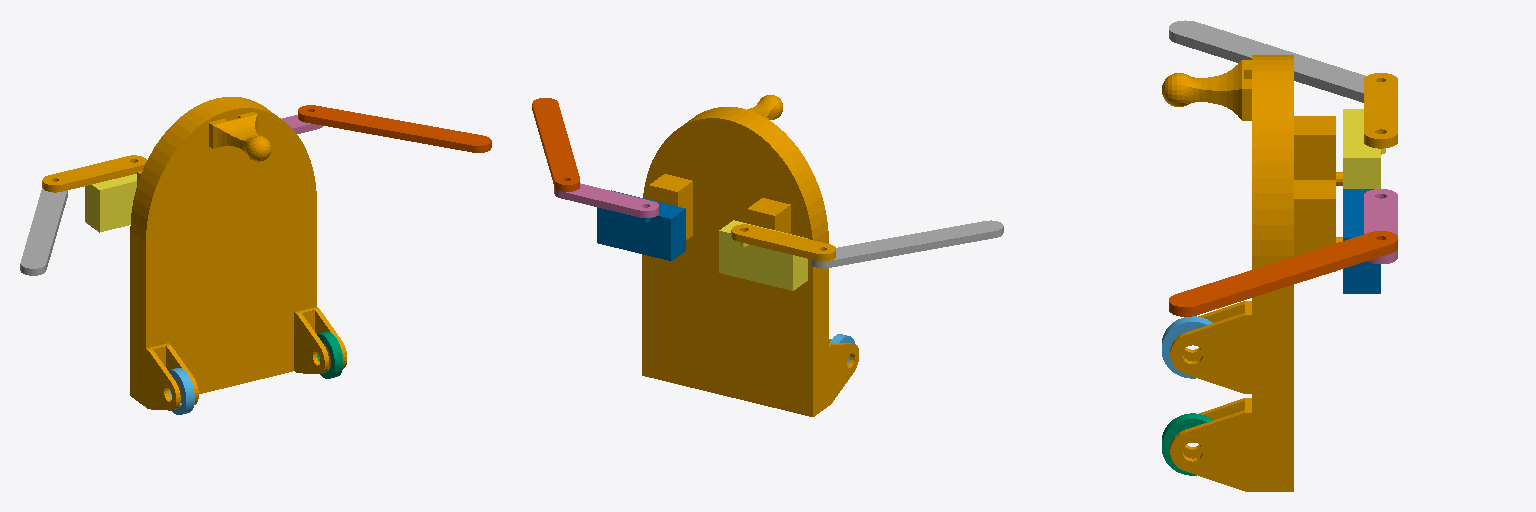
The robot description file, URDF, robot "Base_model":
<?xml version="1.0" ?>
<robot name="Base_model">

<material name="silver">
  <color rgba="0.700 0.700 0.700 1.000"/>
</material>

<material name="yellow">
  <color rgba="0.700 0.700 0.200 1.000"/>
</material>

<material name="blue">
  <color rgba="0.100 0.000 0.600 1.000"/>
</material>

<link name="base_link">
  <inertial>
    <origin rpy="0 0 0" xyz="2.1649117348326915e-10 0.006063366160416191 -0.0036090404473681564"/>
    <mass value="0.8667461259505118"/>
    <inertia ixx="0.0009292065490933371" ixy="4.096239872895422e-12" ixz="-9.714954767796221e-12" iyy="0.0012966665024559648" iyz="-1.87163985415264e-05" izz="0.00042571411403887746"/>
  </inertial>
  <visual>
    <origin rpy="0 0 0" xyz="0 0 0"/>
    <geometry>
      <mesh filename="meshes/base_link.stl" scale="0.001 0.001 0.001"/>
    </geometry>
    <material name="yellow"/>
    <material/>
  </visual>
  <collision>
    <origin rpy="0 0 0" xyz="0 0 0"/>
    <geometry>
      <mesh filename="meshes/base_link.stl" scale="0.001 0.001 0.001"/>
    </geometry>
  </collision>
</link>

<link name="wheel1">
  <inertial>
    <origin rpy="0 0 0" xyz="0.004899999999999953 -3.469446951953614e-18 5.215758380749946e-13"/>
    <mass value="0.004160654388960019"/>
    <inertia ixx="2.44651682942537e-07" ixy="1.2705494208814505e-21" ixz="5.929230630780102e-21" iyy="1.2733249153231007e-07" iyz="-1.2705494208814505e-21" izz="1.273324996396622e-07"/>
  </inertial>
  <visual>
    <origin rpy="0 0 0" xyz="0.038 0.017 0.04625"/>
    <geometry>
      <mesh filename="meshes/wheel1.stl" scale="0.001 0.001 0.001"/>
    </geometry>
    <material name="silver"/>
    <material/>
  </visual>
  <collision>
    <origin rpy="0 0 0" xyz="0.038 0.017 0.04625"/>
    <geometry>
      <mesh filename="meshes/wheel1.stl" scale="0.001 0.001 0.001"/>
    </geometry>
  </collision>
</link>

<link name="wheel_11">
  <inertial>
    <origin rpy="0 0 0" xyz="0.004899999999999963 -3.469446951953614e-18 5.215758380749946e-13"/>
    <mass value="0.004160654388960019"/>
    <inertia ixx="2.44651682942537e-07" ixy="4.235164736271502e-22" ixz="8.470329472543003e-22" iyy="1.2733249153231177e-07" iyz="-1.2705494208814505e-21" izz="1.2733249963966052e-07"/>
  </inertial>
  <visual>
    <origin rpy="0 0 0" xyz="-0.028 0.017 0.04625"/>
    <geometry>
      <mesh filename="meshes/wheel_11.stl" scale="0.001 0.001 0.001"/>
    </geometry>
    <material name="silver"/>
    <material/>
  </visual>
  <collision>
    <origin rpy="0 0 0" xyz="-0.028 0.017 0.04625"/>
    <geometry>
      <mesh filename="meshes/wheel_11.stl" scale="0.001 0.001 0.001"/>
    </geometry>
  </collision>
</link>

<link name="updownservo_r1">
  <inertial>
    <origin rpy="0 0 0" xyz="-0.005250157769523277 0.005521234487045907 0.003019495805420642"/>
    <mass value="0.05129035865610433"/>
    <inertia ixx="1.90744640783288e-06" ixy="-5.718075226976275e-09" ixz="-5.249878735722076e-09" iyy="6.0437319526034095e-06" iyz="-2.8193109730809325e-09" izz="5.173021286811424e-06"/>
  </inertial>
  <visual>
    <origin rpy="0 0 0" xyz="0.02185 -0.026 -0.0123"/>
    <geometry>
      <mesh filename="meshes/updownservo_r1.stl" scale="0.001 0.001 0.001"/>
    </geometry>
    <material name="blue"/>
    <material/>
  </visual>
  <collision>
    <origin rpy="0 0 0" xyz="0.02185 -0.026 -0.0123"/>
    <geometry>
      <mesh filename="meshes/updownservo_r1.stl" scale="0.001 0.001 0.001"/>
    </geometry>
  </collision>
</link>

<link name="updownservo_l1">
  <inertial>
    <origin rpy="0 0 0" xyz="0.0052501577695231935 0.0055212344870459 0.003019495805420642"/>
    <mass value="0.05129035865610433"/>
    <inertia ixx="1.9074464078328935e-06" ixy="5.7180752269627225e-09" ixz="5.249878735742405e-09" iyy="6.043731952603416e-06" iyz="-2.8193109730809325e-09" izz="5.1730212868114785e-06"/>
  </inertial>
  <visual>
    <origin rpy="0 0 0" xyz="-0.02185 -0.026 -0.0123"/>
    <geometry>
      <mesh filename="meshes/updownservo_l1.stl" scale="0.001 0.001 0.001"/>
    </geometry>
    <material name="blue"/>
    <material/>
  </visual>
  <collision>
    <origin rpy="0 0 0" xyz="-0.02185 -0.026 -0.0123"/>
    <geometry>
      <mesh filename="meshes/updownservo_l1.stl" scale="0.001 0.001 0.001"/>
    </geometry>
  </collision>
</link>

<link name="arm1">
  <inertial>
    <origin rpy="0 0 0" xyz="0.021232718453066568 -0.02822627433821328 0.0015000000000000013"/>
    <mass value="0.01816814753405157"/>
    <inertia ixx="5.864620872344388e-06" ixy="4.289344550046274e-06" ixz="-6.776263578034403e-21" iyy="3.389051553930088e-06" iyz="-2.541098841762901e-21" izz="9.226420204973095e-06"/>
  </inertial>
  <visual>
    <origin rpy="0 0 0" xyz="-0.05685 -0.037 -0.0273"/>
    <geometry>
      <mesh filename="meshes/arm1.stl" scale="0.001 0.001 0.001"/>
    </geometry>
    <material name="silver"/>
    <material/>
  </visual>
  <collision>
    <origin rpy="0 0 0" xyz="-0.05685 -0.037 -0.0273"/>
    <geometry>
      <mesh filename="meshes/arm1.stl" scale="0.001 0.001 0.001"/>
    </geometry>
  </collision>
</link>

<link name="forearm_11">
  <inertial>
    <origin rpy="0 0 0" xyz="0.017585321332977473 6.938893903907228e-18 0.0015000000000000048"/>
    <mass value="0.009711832308861891"/>
    <inertia ixx="8.728333535491803e-08" ixy="1.5246593050577406e-20" ixz="-1.6940658945086007e-21" iyy="1.4473050303649479e-06" iyz="0.0" izz="1.520020617257124e-06"/>
  </inertial>
  <visual>
    <origin rpy="0 0 0" xyz="-0.02185 -0.037 -0.0243"/>
    <geometry>
      <mesh filename="meshes/forearm_11.stl" scale="0.001 0.001 0.001"/>
    </geometry>
    <material name="silver"/>
    <material/>
  </visual>
  <collision>
    <origin rpy="0 0 0" xyz="-0.02185 -0.037 -0.0243"/>
    <geometry>
      <mesh filename="meshes/forearm_11.stl" scale="0.001 0.001 0.001"/>
    </geometry>
  </collision>
</link>

<link name="arm_11">
  <inertial>
    <origin rpy="0 0 0" xyz="-0.021232718453066443 -0.028226274338213453 -0.001499999999999991"/>
    <mass value="0.01816814753405157"/>
    <inertia ixx="5.86462087234438e-06" ixy="-4.289344550046262e-06" ixz="0.0" iyy="3.389051553930156e-06" iyz="4.235164736271502e-22" izz="9.226420204973325e-06"/>
  </inertial>
  <visual>
    <origin rpy="0 0 0" xyz="0.05685 -0.037 -0.0243"/>
    <geometry>
      <mesh filename="meshes/arm_11.stl" scale="0.001 0.001 0.001"/>
    </geometry>
    <material name="silver"/>
    <material/>
  </visual>
  <collision>
    <origin rpy="0 0 0" xyz="0.05685 -0.037 -0.0243"/>
    <geometry>
      <mesh filename="meshes/arm_11.stl" scale="0.001 0.001 0.001"/>
    </geometry>
  </collision>
</link>

<link name="forearm1">
  <inertial>
    <origin rpy="0 0 0" xyz="-0.017585321332977605 1.3877787807814457e-17 0.0015000000000000048"/>
    <mass value="0.009711832308861891"/>
    <inertia ixx="8.72833353549248e-08" ixy="-8.470329472543003e-21" ixz="1.6940658945086007e-21" iyy="1.4473050303649716e-06" iyz="0.0" izz="1.5200206172566057e-06"/>
  </inertial>
  <visual>
    <origin rpy="0 0 0" xyz="0.02185 -0.037 -0.0243"/>
    <geometry>
      <mesh filename="meshes/forearm1.stl" scale="0.001 0.001 0.001"/>
    </geometry>
    <material name="silver"/>
    <material/>
  </visual>
  <collision>
    <origin rpy="0 0 0" xyz="0.02185 -0.037 -0.0243"/>
    <geometry>
      <mesh filename="meshes/forearm1.stl" scale="0.001 0.001 0.001"/>
    </geometry>
  </collision>
</link>

<joint name="Rev1" type="continuous">
  <origin rpy="0 0 0" xyz="-0.038 -0.017 -0.04625"/>
  <parent link="base_link"/>
  <child link="wheel1"/>
  <axis xyz="-1.0 0.0 0.0"/>
</joint>
<transmission name="Rev1_tran">
  <type>transmission_interface/SimpleTransmission</type>
  <joint name="Rev1">
    <hardwareInterface>PositionJointInterface</hardwareInterface>
  </joint>
  <actuator name="Rev1_actr">
    <hardwareInterface>PositionJointInterface</hardwareInterface>
    <mechanicalReduction>1</mechanicalReduction>
  </actuator>
</transmission>

<joint name="Rev2" type="continuous">
  <origin rpy="0 0 0" xyz="0.028 -0.017 -0.04625"/>
  <parent link="base_link"/>
  <child link="wheel_11"/>
  <axis xyz="-1.0 0.0 0.0"/>
</joint>
<transmission name="Rev2_tran">
  <type>transmission_interface/SimpleTransmission</type>
  <joint name="Rev2">
    <hardwareInterface>PositionJointInterface</hardwareInterface>
  </joint>
  <actuator name="Rev2_actr">
    <hardwareInterface>PositionJointInterface</hardwareInterface>
    <mechanicalReduction>1</mechanicalReduction>
  </actuator>
</transmission>

<joint name="Rev3" type="continuous">
  <origin rpy="0 0 0" xyz="-0.02185 0.026 0.0123"/>
  <parent link="base_link"/>
  <child link="updownservo_r1"/>
  <axis xyz="0.0 1.0 0.0"/>
</joint>
<transmission name="Rev3_tran">
  <type>transmission_interface/SimpleTransmission</type>
  <joint name="Rev3">
    <hardwareInterface>PositionJointInterface</hardwareInterface>
  </joint>
  <actuator name="Rev3_actr">
    <hardwareInterface>PositionJointInterface</hardwareInterface>
    <mechanicalReduction>1</mechanicalReduction>
  </actuator>
</transmission>

<joint name="Rev4" type="continuous">
  <origin rpy="0 0 0" xyz="0.02185 0.026 0.0123"/>
  <parent link="base_link"/>
  <child link="updownservo_l1"/>
  <axis xyz="0.0 1.0 0.0"/>
</joint>
<transmission name="Rev4_tran">
  <type>transmission_interface/SimpleTransmission</type>
  <joint name="Rev4">
    <hardwareInterface>PositionJointInterface</hardwareInterface>
  </joint>
  <actuator name="Rev4_actr">
    <hardwareInterface>PositionJointInterface</hardwareInterface>
    <mechanicalReduction>1</mechanicalReduction>
  </actuator>
</transmission>

<joint name="Rev5" type="continuous">
  <origin rpy="0 0 0" xyz="0.035 0.0 0.003"/>
  <parent link="forearm_11"/>
  <child link="arm1"/>
  <axis xyz="0.0 0.0 1.0"/>
</joint>
<transmission name="Rev5_tran">
  <type>transmission_interface/SimpleTransmission</type>
  <joint name="Rev5">
    <hardwareInterface>PositionJointInterface</hardwareInterface>
  </joint>
  <actuator name="Rev5_actr">
    <hardwareInterface>PositionJointInterface</hardwareInterface>
    <mechanicalReduction>1</mechanicalReduction>
  </actuator>
</transmission>

<joint name="Rev6" type="continuous">
  <origin rpy="0 0 0" xyz="0.0 0.011 0.012"/>
  <parent link="updownservo_l1"/>
  <child link="forearm_11"/>
  <axis xyz="0.0 0.0 1.0"/>
</joint>
<transmission name="Rev6_tran">
  <type>transmission_interface/SimpleTransmission</type>
  <joint name="Rev6">
    <hardwareInterface>PositionJointInterface</hardwareInterface>
  </joint>
  <actuator name="Rev6_actr">
    <hardwareInterface>PositionJointInterface</hardwareInterface>
    <mechanicalReduction>1</mechanicalReduction>
  </actuator>
</transmission>

<joint name="Rev7" type="continuous">
  <origin rpy="0 0 0" xyz="-0.035 0.0 0.0"/>
  <parent link="forearm1"/>
  <child link="arm_11"/>
  <axis xyz="0.0 0.0 -1.0"/>
</joint>
<transmission name="Rev7_tran">
  <type>transmission_interface/SimpleTransmission</type>
  <joint name="Rev7">
    <hardwareInterface>PositionJointInterface</hardwareInterface>
  </joint>
  <actuator name="Rev7_actr">
    <hardwareInterface>PositionJointInterface</hardwareInterface>
    <mechanicalReduction>1</mechanicalReduction>
  </actuator>
</transmission>

<joint name="Rev8" type="continuous">
  <origin rpy="0 0 0" xyz="0.0 0.011 0.012"/>
  <parent link="updownservo_r1"/>
  <child link="forearm1"/>
  <axis xyz="0.0 0.0 1.0"/>
</joint>
<transmission name="Rev8_tran">
  <type>transmission_interface/SimpleTransmission</type>
  <joint name="Rev8">
    <hardwareInterface>PositionJointInterface</hardwareInterface>
  </joint>
  <actuator name="Rev8_actr">
    <hardwareInterface>PositionJointInterface</hardwareInterface>
    <mechanicalReduction>1</mechanicalReduction>
  </actuator>
</transmission>

</robot>

--- Render facts (derived) ---
Views: 3 orthographic renders of the robot side by side, from view 1: azimuth 30°, elevation 25°; view 2: azimuth 150°, elevation 25°; view 3: azimuth 270°, elevation 25°.
Model Base_model with 9 links and 8 joints (8 continuous), rooted at base_link, posed all joints at 0.
Visible links, largest first — view 1: base_link, arm1, updownservo_r1, arm_11, forearm1, wheel1, wheel_11; view 2: base_link, updownservo_l1, updownservo_r1, arm_11, arm1, forearm1, forearm_11; view 3: base_link, arm1, arm_11, forearm1, updownservo_r1, updownservo_l1, forearm_11, wheel1, wheel_11.
Link boxes in pixels (x1,y1,x2,y2): base_link: (130,97,346,410); arm1: (298,105,491,152); updownservo_r1: (85,174,136,232); arm_11: (20,188,67,275); forearm1: (42,155,146,192); wheel1: (168,368,194,414); wheel_11: (317,331,342,378); base_link: (642,95,858,416); updownservo_l1: (597,190,685,260); updownservo_r1: (719,220,807,290); arm_11: (810,220,1003,268); arm1: (532,98,579,191); forearm1: (731,224,835,261); forearm_11: (554,183,658,217); base_link: (1162,55,1342,491); arm1: (1169,231,1397,316); arm_11: (1169,20,1365,102); forearm1: (1364,73,1397,148); updownservo_r1: (1343,109,1385,188); updownservo_l1: (1343,189,1380,293); forearm_11: (1364,189,1397,263); wheel1: (1162,316,1212,378); wheel_11: (1162,413,1212,475).
Bounding box of the posed robot: 0.2079 × 0.068 × 0.1175 m (x, y, z).
9 mesh visuals loaded from 9 distinct referenced files (9 binary STL).
